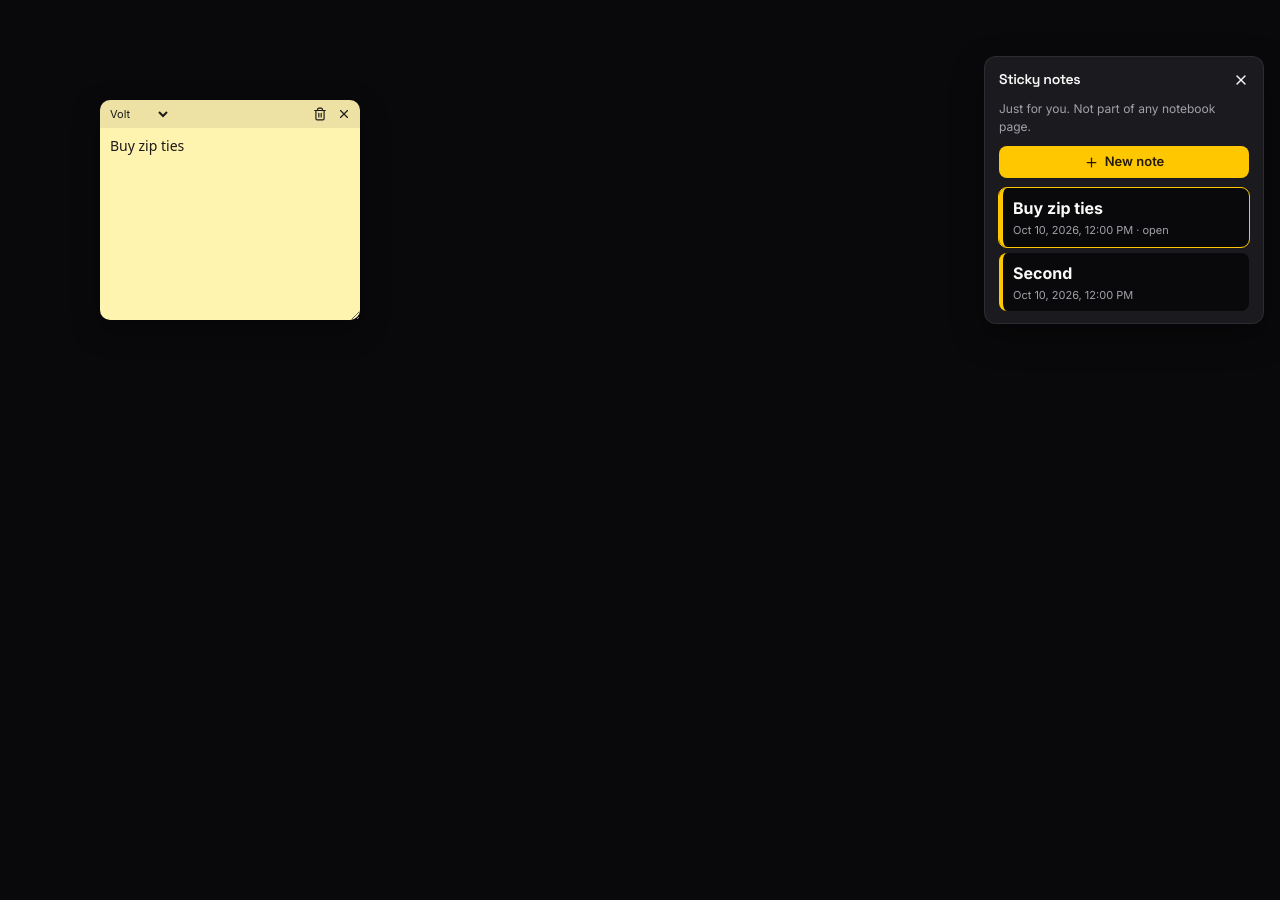
Sticky notes › leaves another tab's unsaved drafts alone
Replace the text in the text box named "Note text" with "Saved here" at (230, 224), box [100,128,360,320]
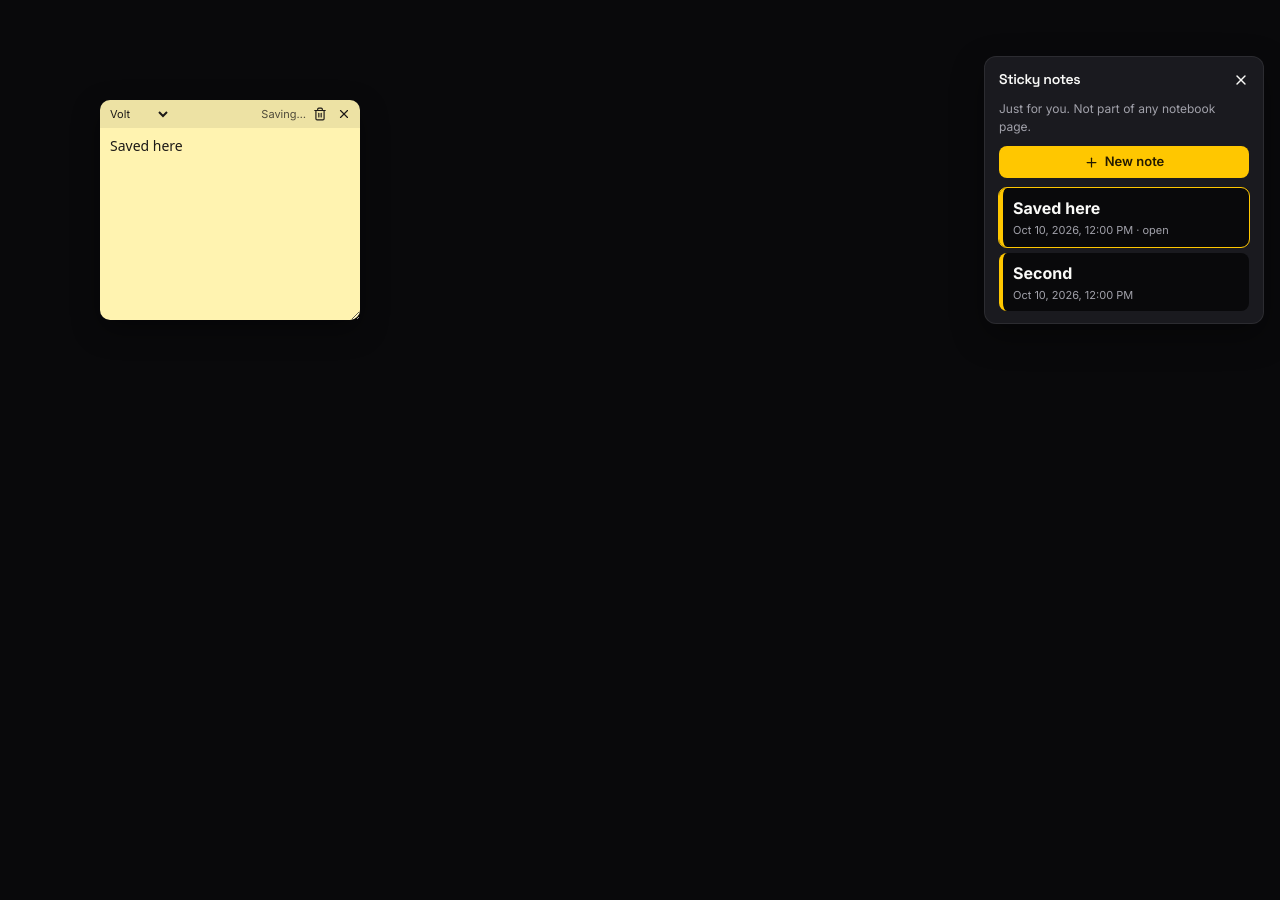
Leave the text box named "Note text", box [100,128,360,320]
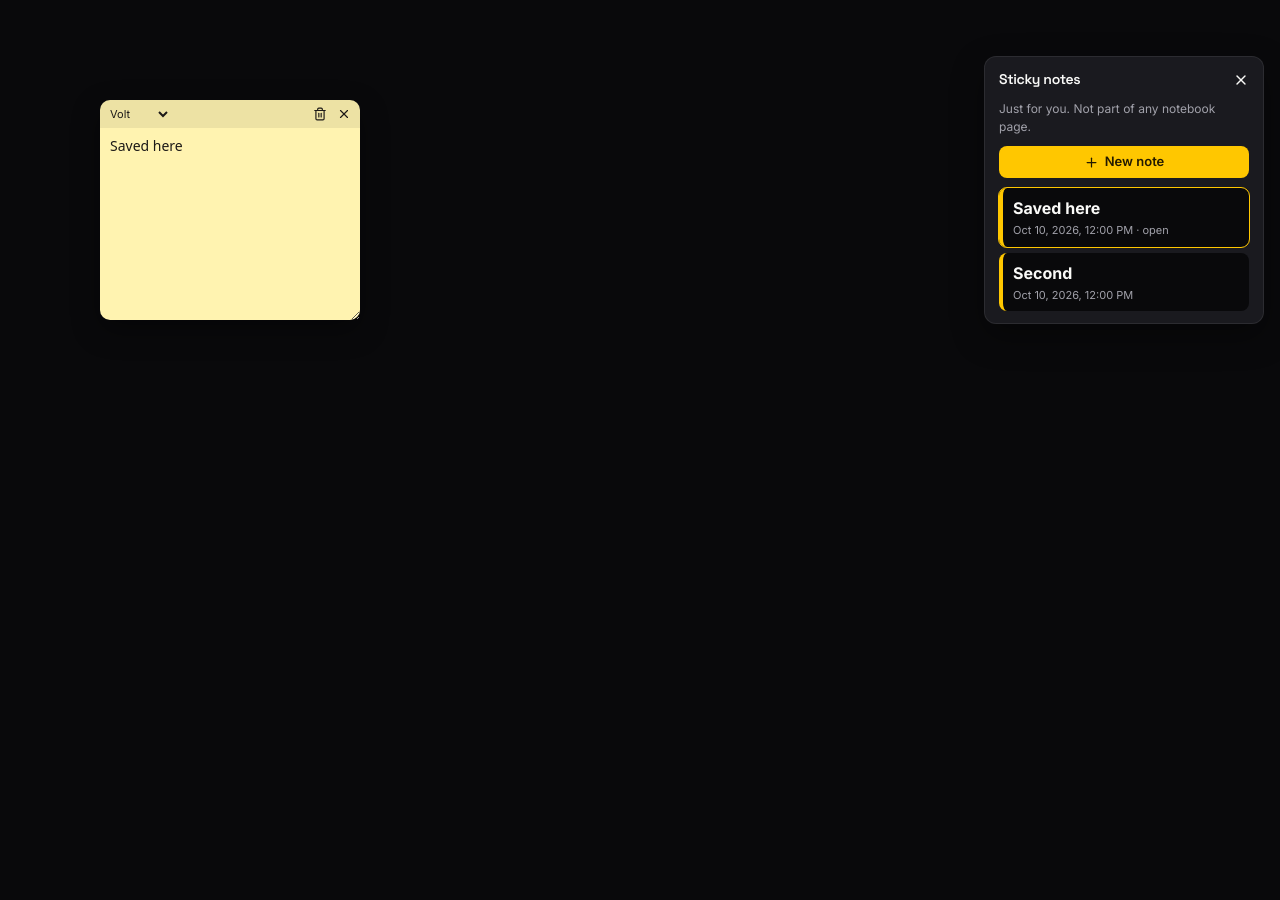
Check: the text "Saving…" is gone
